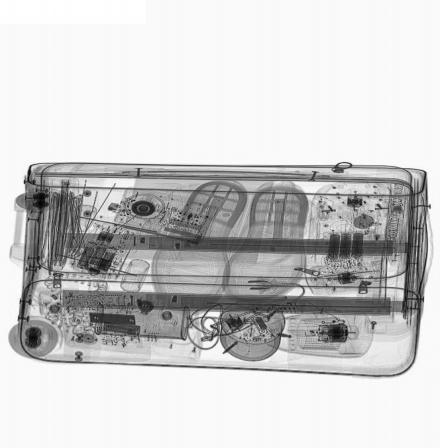Lighter: (107, 201, 162, 222)
